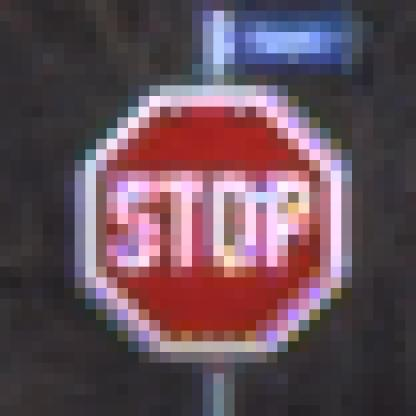Stop: (82, 96, 340, 357)
